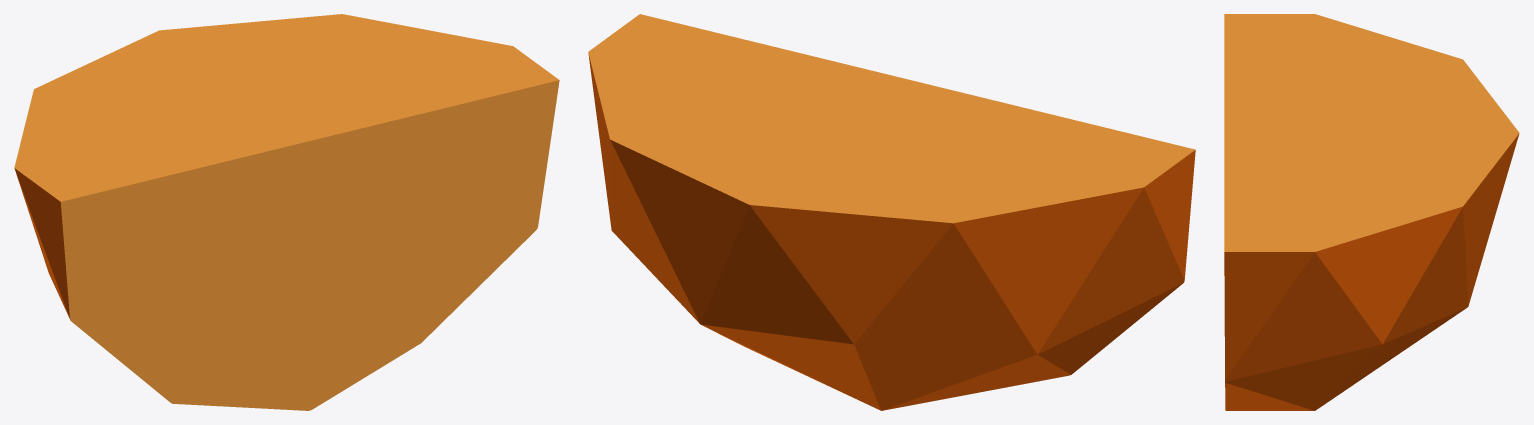
The model's file is OrangeQu3.fbx.
3 renders of one model, left to right at view 1: azimuth 30°, elevation 25°; view 2: azimuth 150°, elevation 25°; view 3: azimuth 270°, elevation 25°, orthographic. The views are drawn at different scales.
Parts seen in each view (by area): view 1: OrangeQu3; view 2: OrangeQu3; view 3: OrangeQu3.
Boxes of the visible parts, x1,y1,x2,y2 form: OrangeQu3: [14, 14, 559, 410]; OrangeQu3: [588, 14, 1195, 410]; OrangeQu3: [1224, 14, 1519, 410].
Size of the model in its own units: 194 by 101 by 102.
